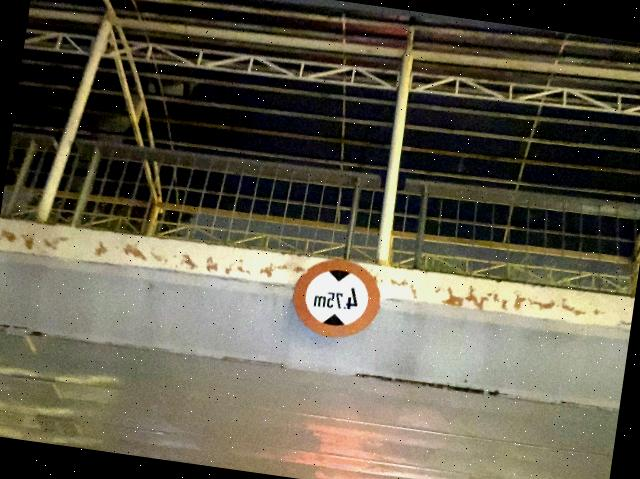han-che-chieu-cao: (288, 252, 386, 344)
